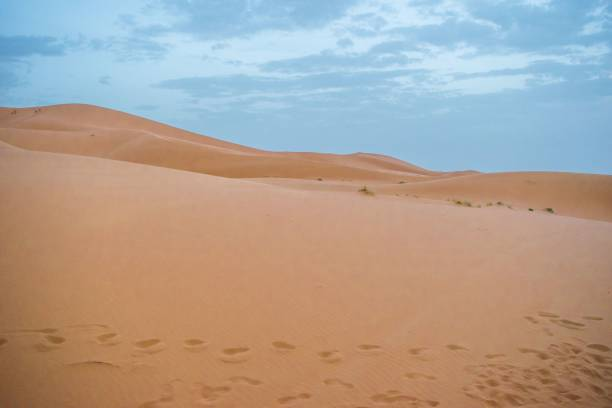human_foot_print: (464, 311, 611, 406), (464, 338, 611, 406), (5, 324, 120, 351), (3, 324, 109, 351), (138, 379, 231, 407), (9, 323, 120, 344), (196, 376, 263, 405), (525, 311, 602, 336), (138, 379, 199, 407), (463, 381, 529, 406), (0, 327, 65, 351), (61, 323, 122, 345), (370, 390, 438, 406), (538, 311, 585, 330), (524, 312, 556, 336), (583, 343, 611, 370), (547, 339, 583, 359), (133, 338, 167, 355), (199, 384, 231, 402), (34, 334, 65, 351), (138, 392, 173, 407), (219, 346, 250, 362), (65, 359, 120, 368), (408, 347, 436, 361), (277, 393, 311, 404), (5, 327, 58, 334), (518, 348, 550, 359), (550, 319, 585, 329), (182, 338, 208, 351), (317, 350, 342, 363), (96, 332, 120, 345), (323, 378, 354, 388), (228, 376, 262, 385), (271, 340, 296, 351), (356, 343, 382, 353), (66, 323, 109, 329), (404, 372, 436, 380), (587, 343, 610, 351), (409, 347, 427, 355), (446, 344, 468, 350), (484, 353, 505, 359), (538, 311, 559, 317), (542, 327, 554, 336), (524, 316, 538, 323), (582, 316, 603, 320), (0, 337, 7, 347)
